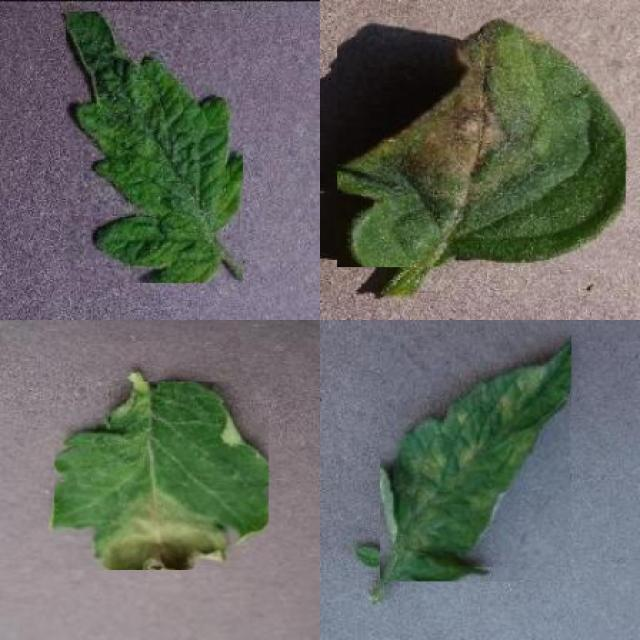Late Blight: (337, 16, 626, 267), (54, 382, 269, 571)
Leaf Mold: (381, 336, 572, 581)
Mosaic Virus: (66, 11, 244, 283)
